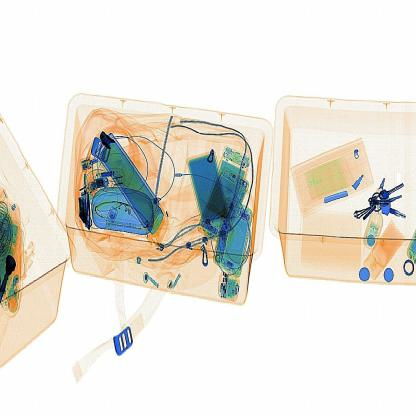pliers: (94, 122, 117, 155)
